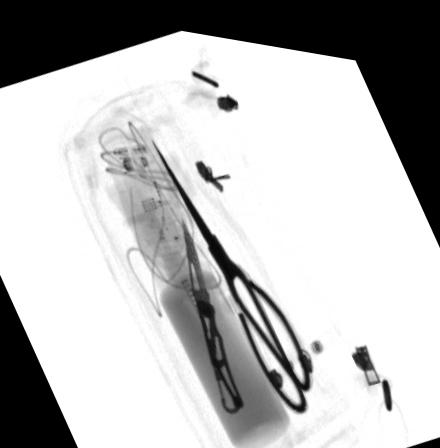Knife: (182, 208, 244, 404)
Scissors: (150, 130, 314, 404)
